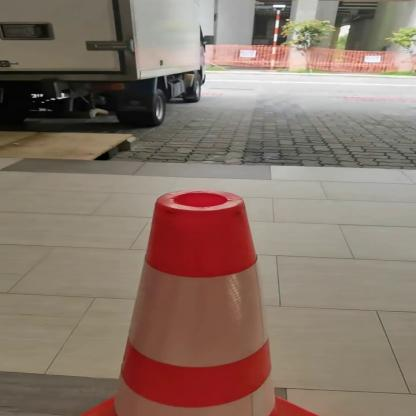cone: (83, 188, 319, 415)
